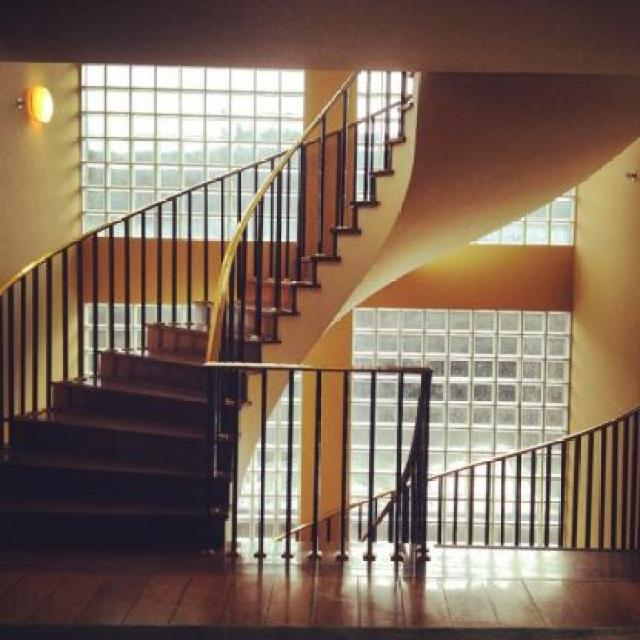stair: (0, 97, 411, 555)
